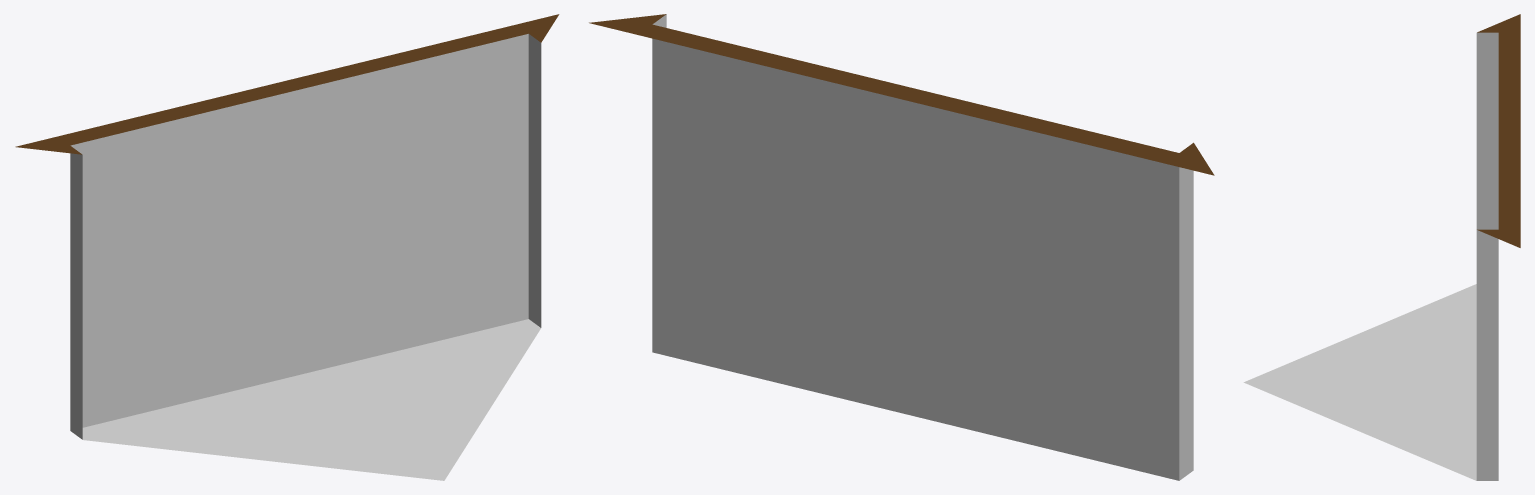
Rendered from Wall.fbx.
3 renders of one model, left to right at view 1: azimuth 30°, elevation 25°; view 2: azimuth 150°, elevation 25°; view 3: azimuth 270°, elevation 25°, orthographic. The views are drawn at different scales.
Visible parts, largest first — view 1: Wall; view 2: Wall; view 3: Wall.
Boxes of the visible parts, left/top/right/bottom form: Wall: left=15, top=14, right=559, bottom=480; Wall: left=589, top=14, right=1214, bottom=480; Wall: left=1243, top=14, right=1520, bottom=480.
Bounding box in the file's own units: 400 × 200 × 200.
